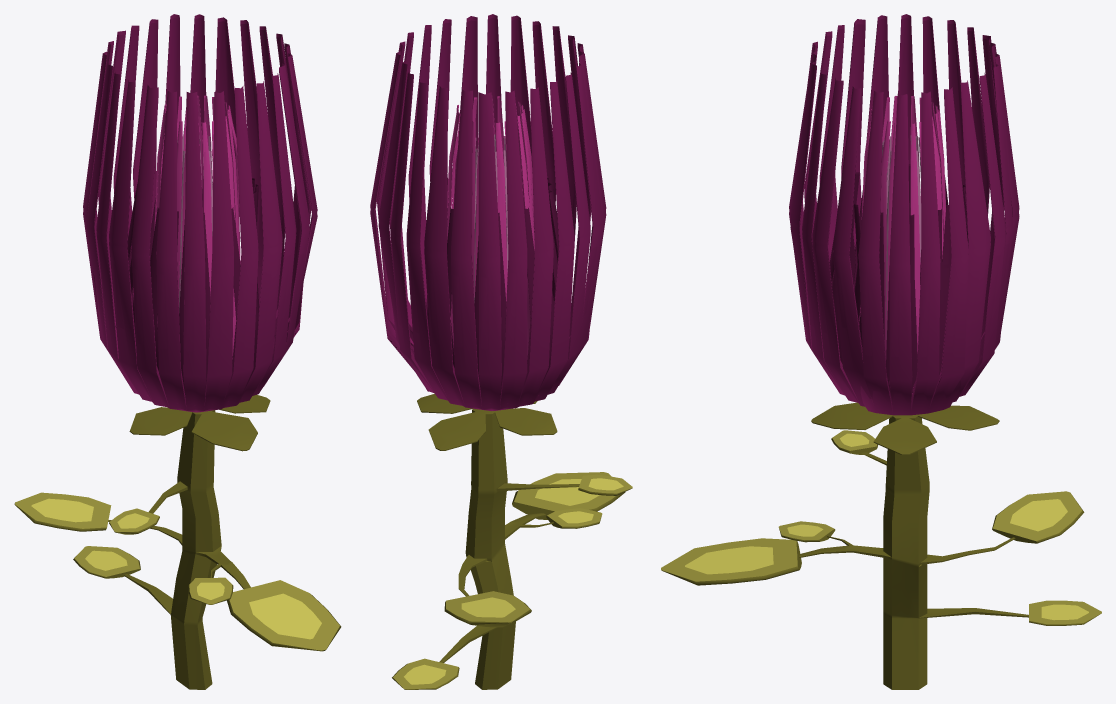
File: Planta Fechada_4H.fbx
3 views of the same model, side by side, from view 1: azimuth 30°, elevation 25°; view 2: azimuth 150°, elevation 25°; view 3: azimuth 270°, elevation 25° (orthographic).
Parts seen in each view (by area): view 1: pCylinder6, pCube4, pCube5, pCylinder1, pCylinder5, pCube8, pCube7, pCube6, pCube2, pCylinder2; view 2: pCylinder6, pCube4, pCylinder1, pCylinder5, pCube5, pCube8, pCube7, pCube6, pCube2, pCylinder2; view 3: pCylinder6, pCube4, pCylinder1, pCylinder5, pCube5, pCube8, pCube7, pCylinder2, pCube6, pCube2.
Boxes of the visible parts, left/top/right/bottom form: pCylinder6: left=83, top=14, right=317, bottom=412; pCube4: left=108, top=395, right=270, bottom=689; pCube5: left=227, top=580, right=341, bottom=651; pCylinder1: left=154, top=95, right=240, bottom=359; pCylinder5: left=127, top=166, right=259, bottom=394; pCube8: left=14, top=492, right=111, bottom=531; pCube7: left=73, top=546, right=140, bottom=578; pCube6: left=188, top=577, right=233, bottom=604; pCube2: left=109, top=508, right=159, bottom=534; pCylinder2: left=177, top=135, right=212, bottom=312; pCylinder6: left=370, top=14, right=606, bottom=411; pCube4: left=417, top=393, right=579, bottom=689; pCylinder1: left=447, top=95, right=534, bottom=359; pCylinder5: left=426, top=168, right=558, bottom=394; pCube5: left=512, top=472, right=625, bottom=519; pCube8: left=444, top=591, right=531, bottom=627; pCube7: left=392, top=658, right=459, bottom=689; pCube6: left=546, top=508, right=602, bottom=528; pCube2: left=578, top=474, right=632, bottom=495; pCylinder2: left=474, top=134, right=508, bottom=302; pCylinder6: left=789, top=14, right=1019, bottom=415; pCube4: left=799, top=402, right=1028, bottom=689; pCylinder1: left=859, top=95, right=945, bottom=361; pCylinder5: left=829, top=164, right=968, bottom=396; pCube5: left=661, top=538, right=801, bottom=585; pCube8: left=992, top=491, right=1084, bottom=543; pCube7: left=1029, top=600, right=1101, bottom=625; pCylinder2: left=882, top=135, right=921, bottom=339; pCube6: left=778, top=521, right=835, bottom=542; pCube2: left=831, top=430, right=877, bottom=454.
Bounding box in the file's own units: 310 × 859 × 543.
